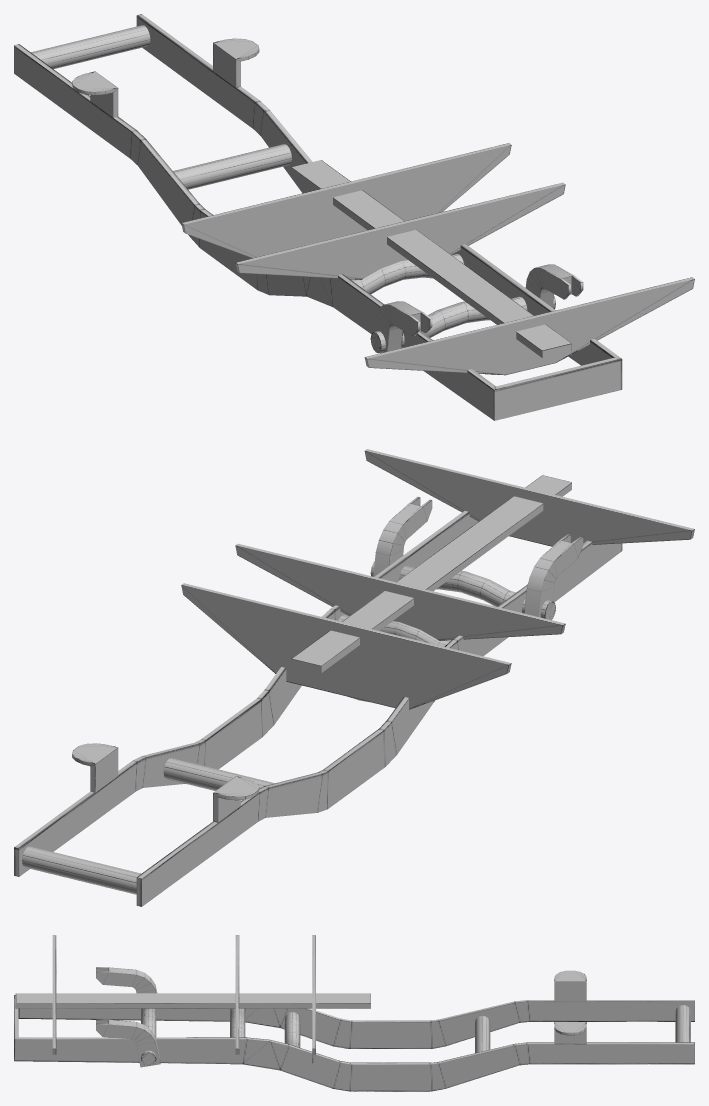
File: frame.dae
3 renders of one model, top to bottom at view 1: azimuth 30°, elevation 25°; view 2: azimuth 150°, elevation 25°; view 3: azimuth 270°, elevation 25°, orthographic. The views are drawn at different scales.
Parts seen in each view (by area): view 1: Frame; view 2: Frame; view 3: Frame.
Boxes of the visible parts, box(x1,y1,x2,y2) form: Frame: box(14, 14, 694, 420); Frame: box(14, 449, 694, 906); Frame: box(14, 935, 694, 1091).
Bounding box in the file's own units: 2.04 × 5.18 × 0.6493.
